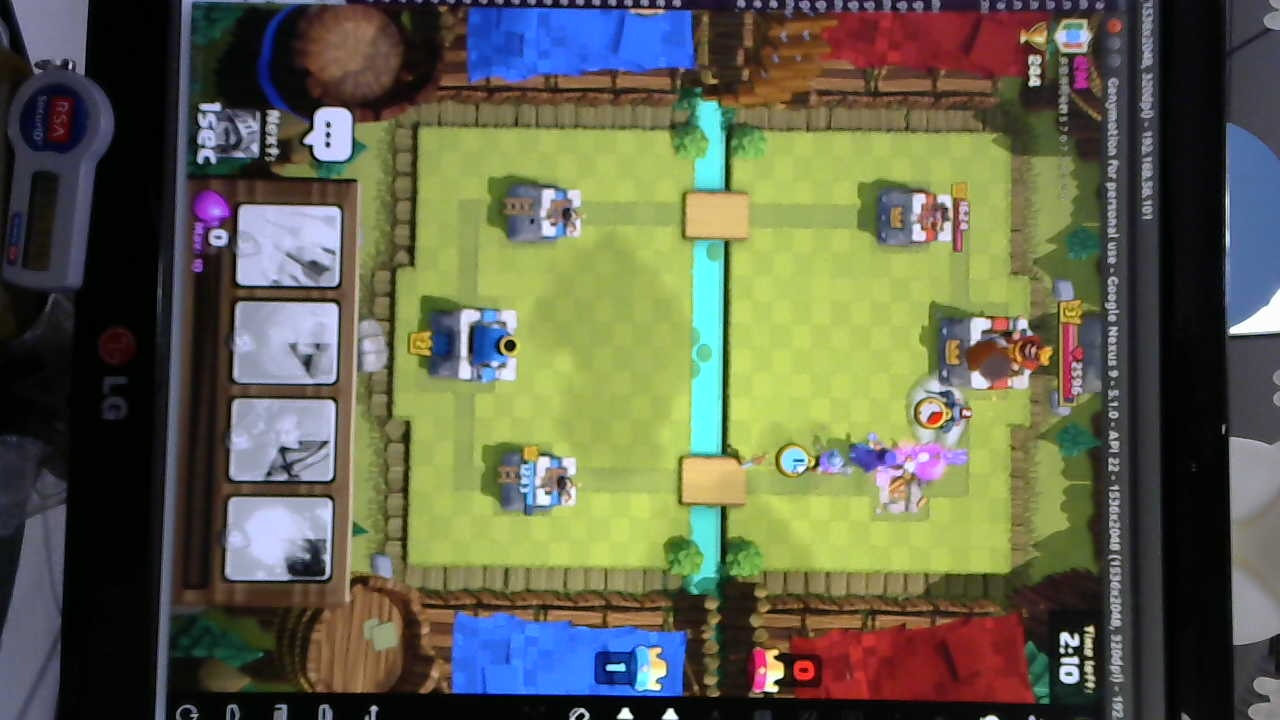arena: (499, 451, 584, 516), (504, 180, 588, 243)
darena: (872, 462, 929, 519)
earena: (876, 185, 957, 251)
eking: (935, 310, 1044, 393)
king: (427, 306, 520, 387)
minipekka: (929, 387, 971, 439)
musketeer: (809, 444, 848, 480)
witch: (846, 443, 904, 475)
